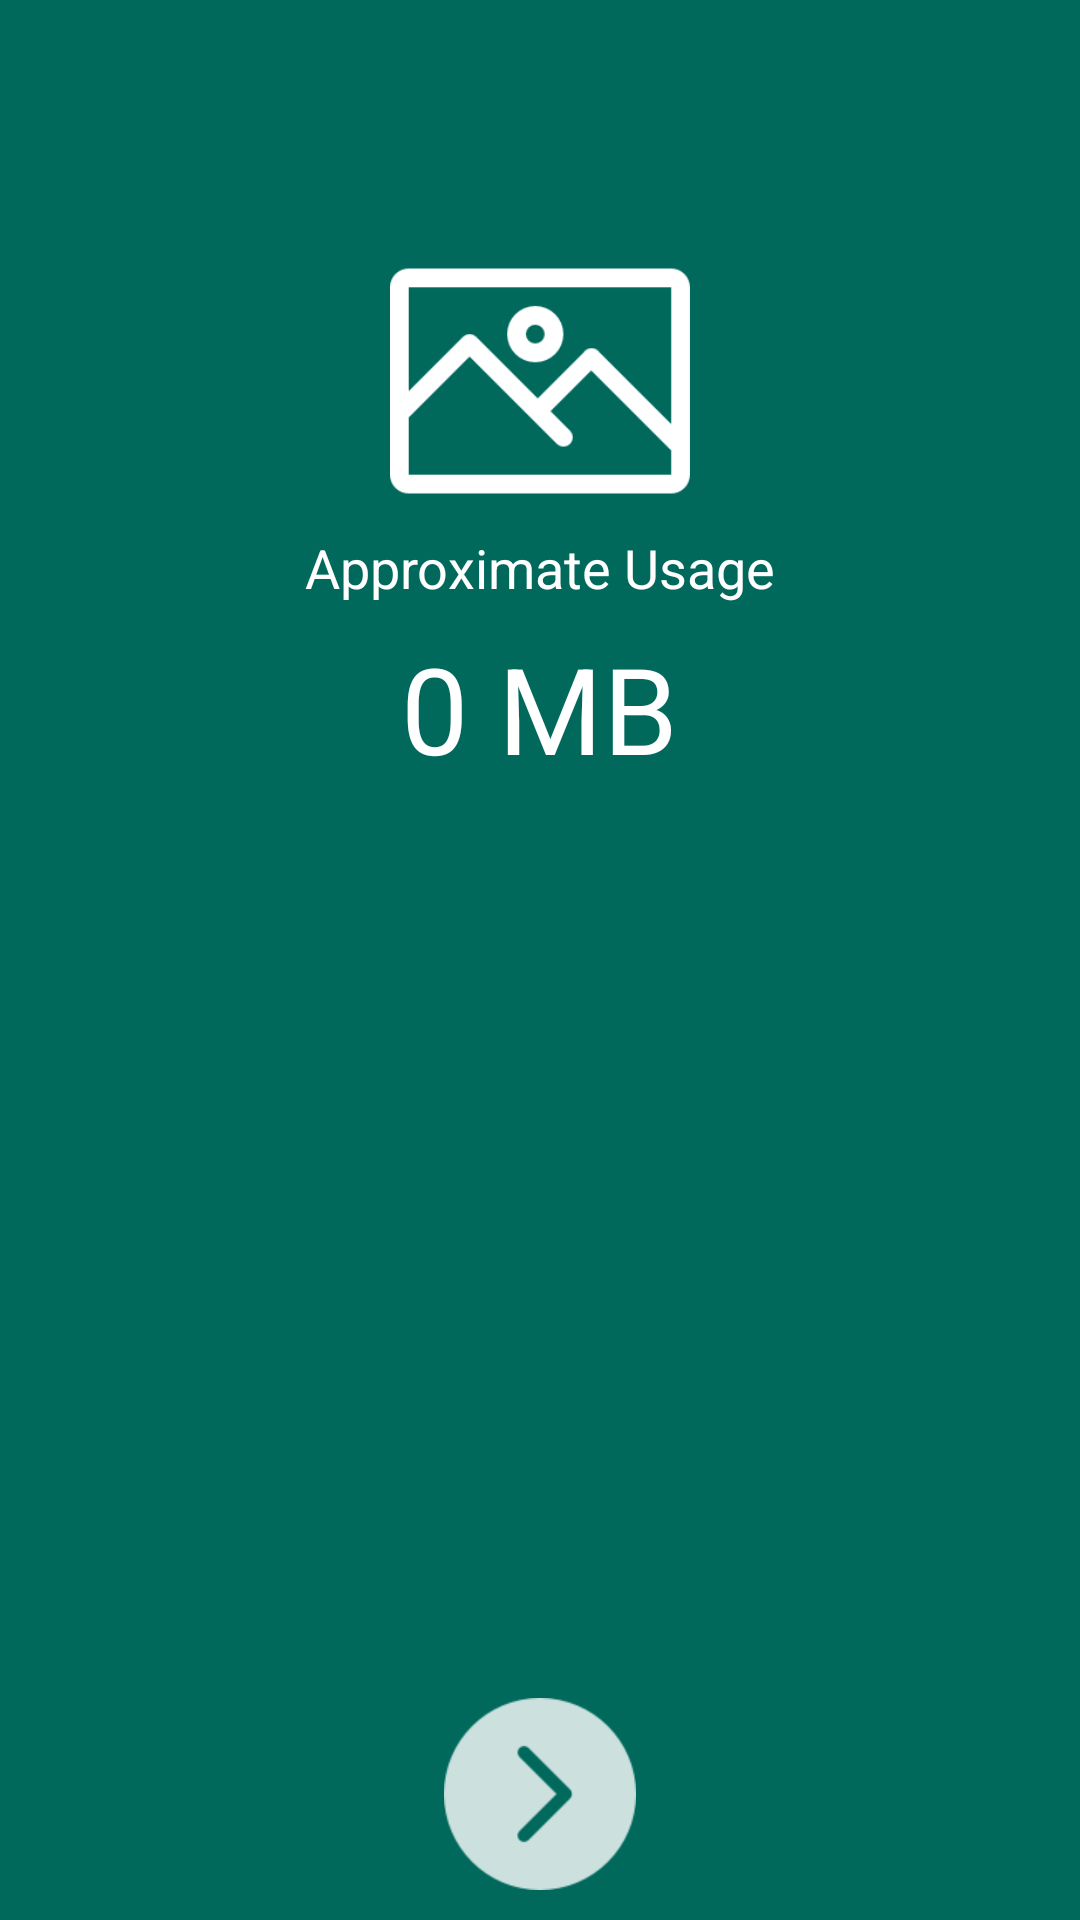

Screen size 1080w x 1920h. Icon name, then its center in pixels as (x,y):
photo: (540,381)
right arrow: (540,1794)
